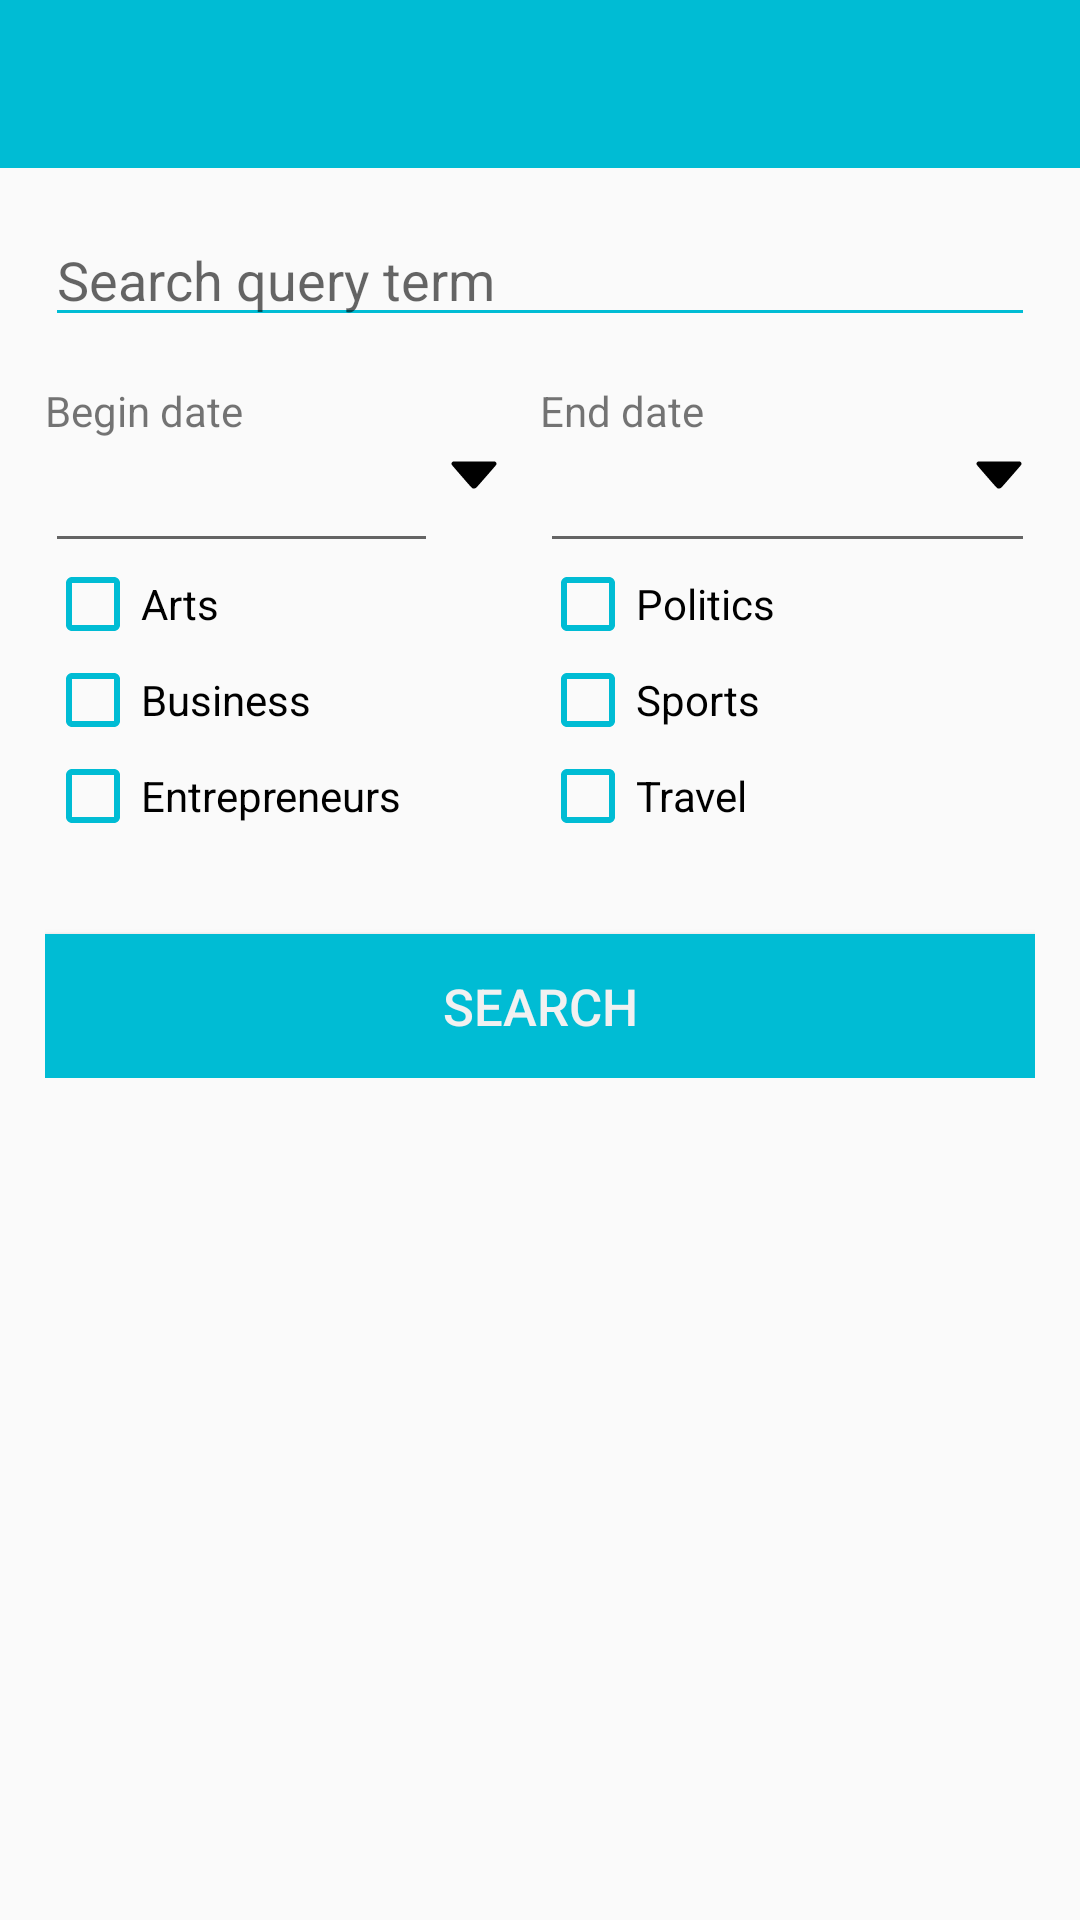

Point at icon controls on the screen. Image size 1080×1920, points as (x,y).
arrow down: (474,475), (999,475)
